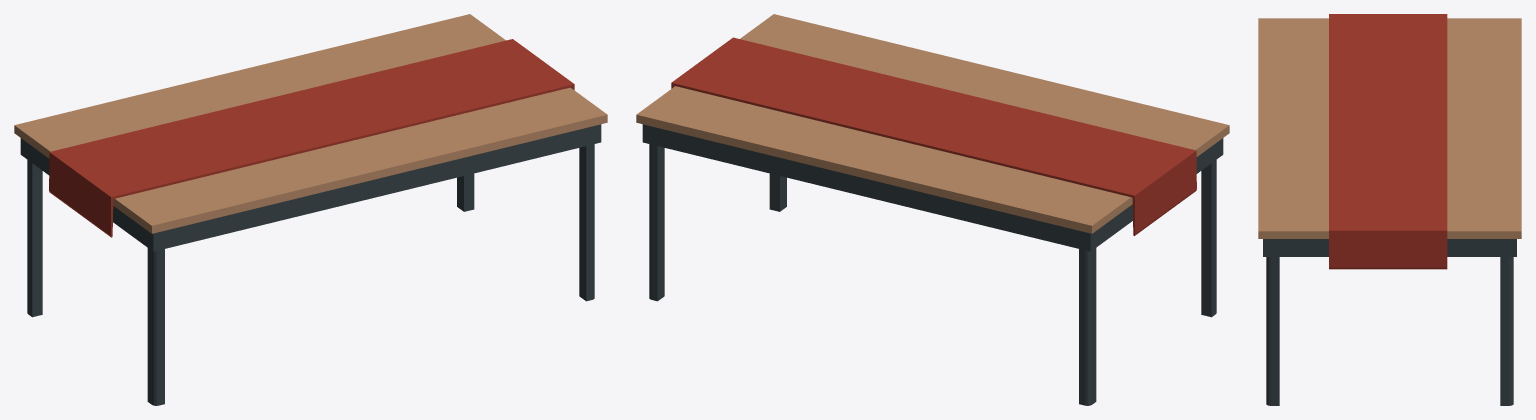
Rendered from DiningTable.fbx.
3 views of the same model, side by side, from view 1: azimuth 30°, elevation 25°; view 2: azimuth 150°, elevation 25°; view 3: azimuth 270°, elevation 25° (orthographic). The views are drawn at different scales.
Parts seen in each view (by area): view 1: DiningTable; view 2: DiningTable; view 3: DiningTable.
Part boxes in pixels (x1,y1,x2,y2): DiningTable: (14, 14, 607, 405); DiningTable: (636, 14, 1229, 405); DiningTable: (1258, 14, 1521, 405).
Bounding box in the file's own units: 227 × 87.82 × 116.
